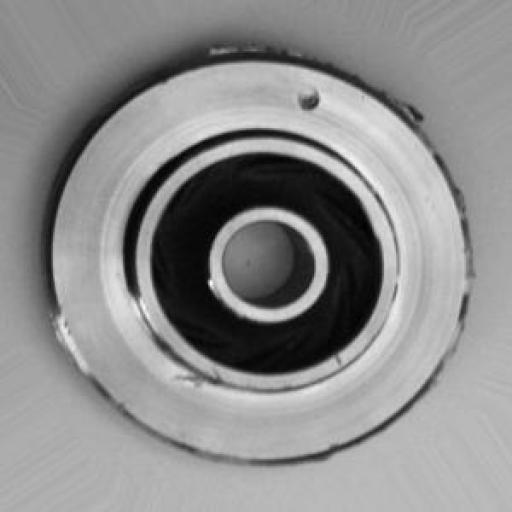defect: (26, 21, 484, 475)
